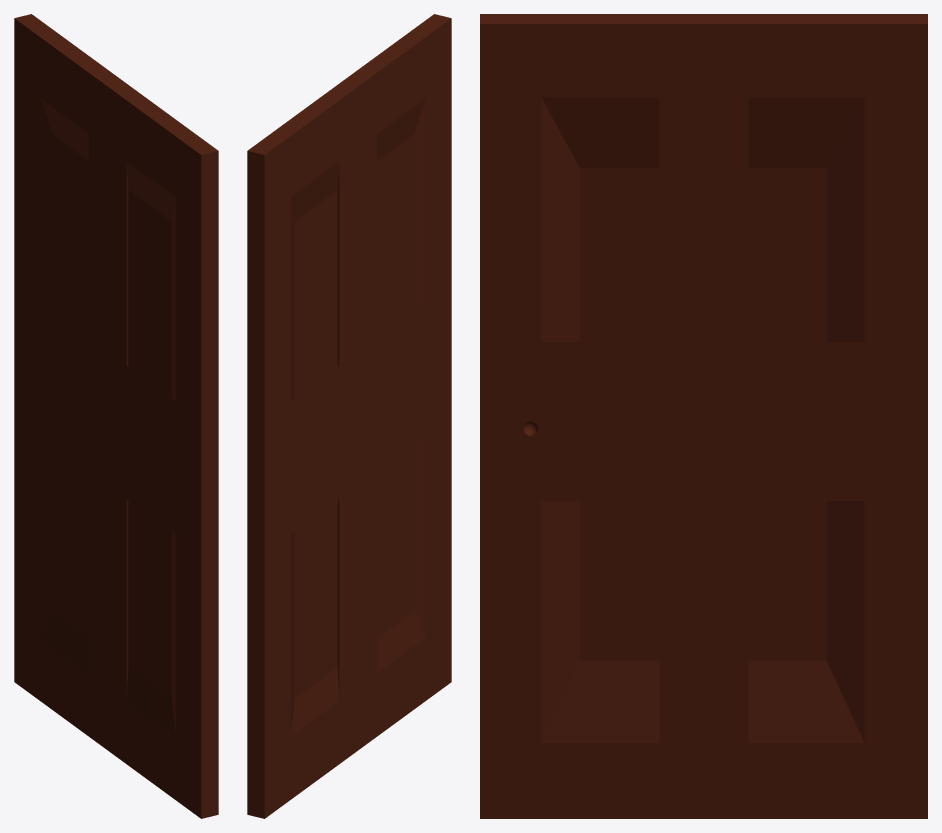
Rendered from homeDoor.obj.
3 views of the same model, side by side, from view 1: azimuth 30°, elevation 25°; view 2: azimuth 150°, elevation 25°; view 3: azimuth 270°, elevation 25° (orthographic). The views are drawn at different scales.
Visible parts, largest first — view 1: door_Cube.008; view 2: door_Cube.008; view 3: door_Cube.008.
Part boxes in pixels (x1=…): door_Cube.008: x1=14, y1=14, x2=218, y2=818; door_Cube.008: x1=247, y1=14, x2=451, y2=818; door_Cube.008: x1=480, y1=14, x2=927, y2=818.
Size of the model in its own units: 0.09 by 2.02 by 1.03.
